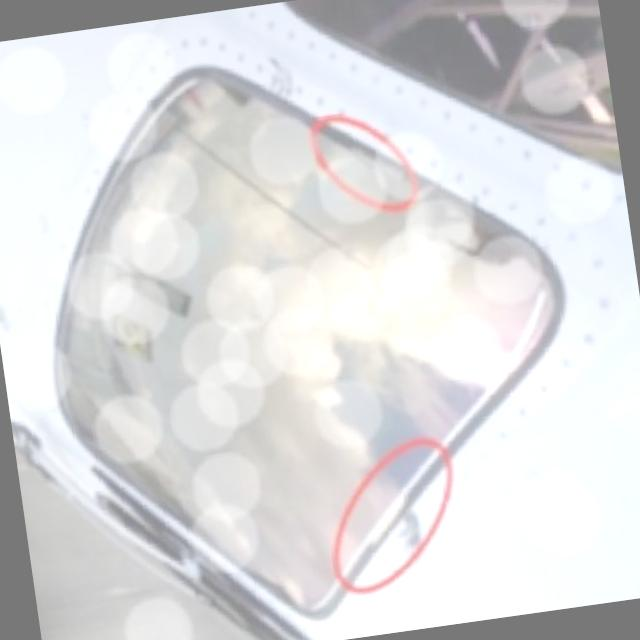crack: (266, 54, 294, 100)
